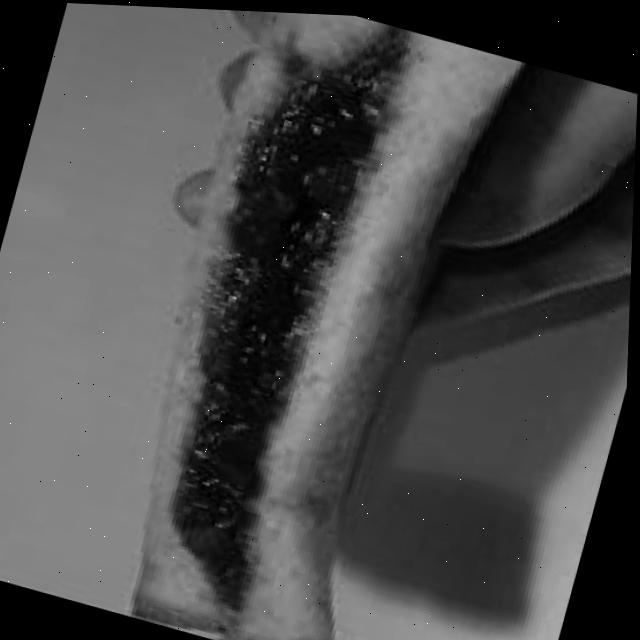三明治: (80, 3, 532, 640)
